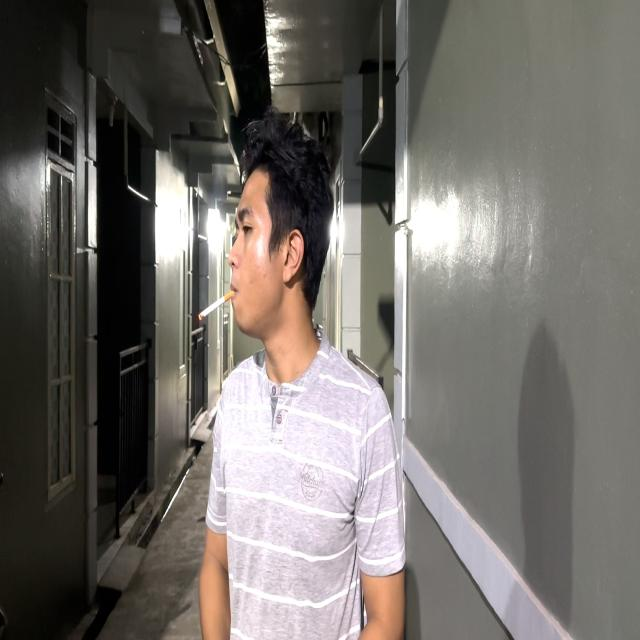cigarette: (196, 285, 236, 325)
smoking: (195, 107, 336, 640)
